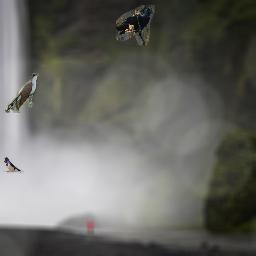Crow: (116, 5, 155, 45)
Cuckoo: (5, 73, 39, 113)
Swallow: (3, 157, 24, 174)
